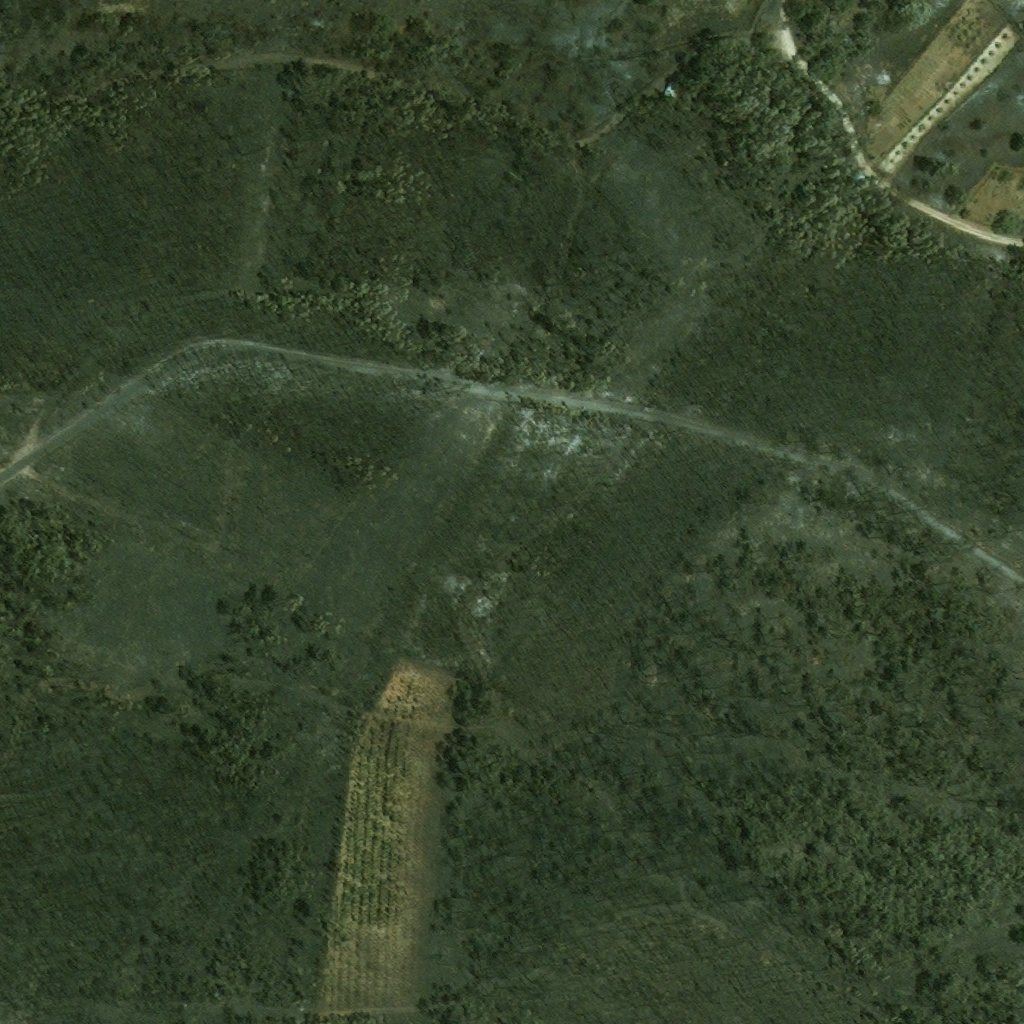0 no-damage: (658, 85, 675, 103)
